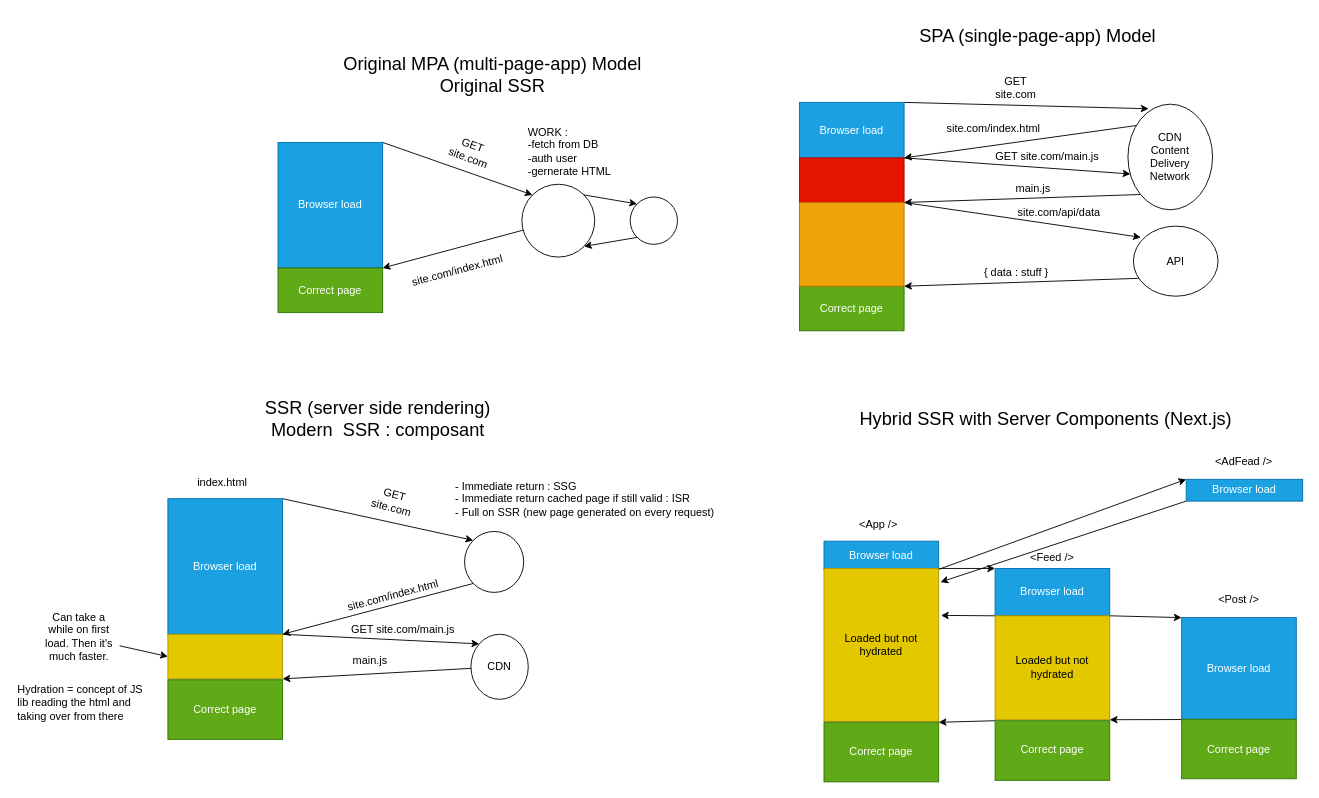
Image size: 1319x798. Some labels were removed from this diagram. The shapes that lost their labels are listed below. From the top down, each one's centre as x and y in pixels, then its label:
pixel 851 179: Blank page
pixel 851 244: Loading spinners
pixel 225 656: Loaded but not hydrated (interactions not working)
